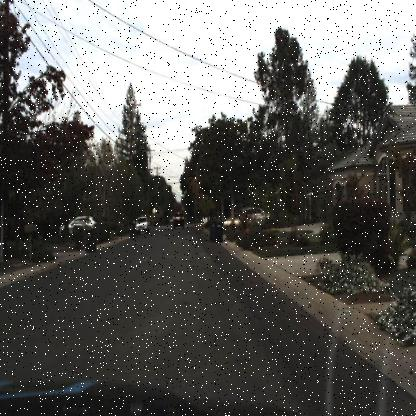car: (61, 213, 98, 241), (62, 210, 100, 235), (220, 210, 250, 235), (239, 204, 273, 222), (132, 212, 152, 233), (170, 209, 186, 230), (134, 215, 148, 238)
